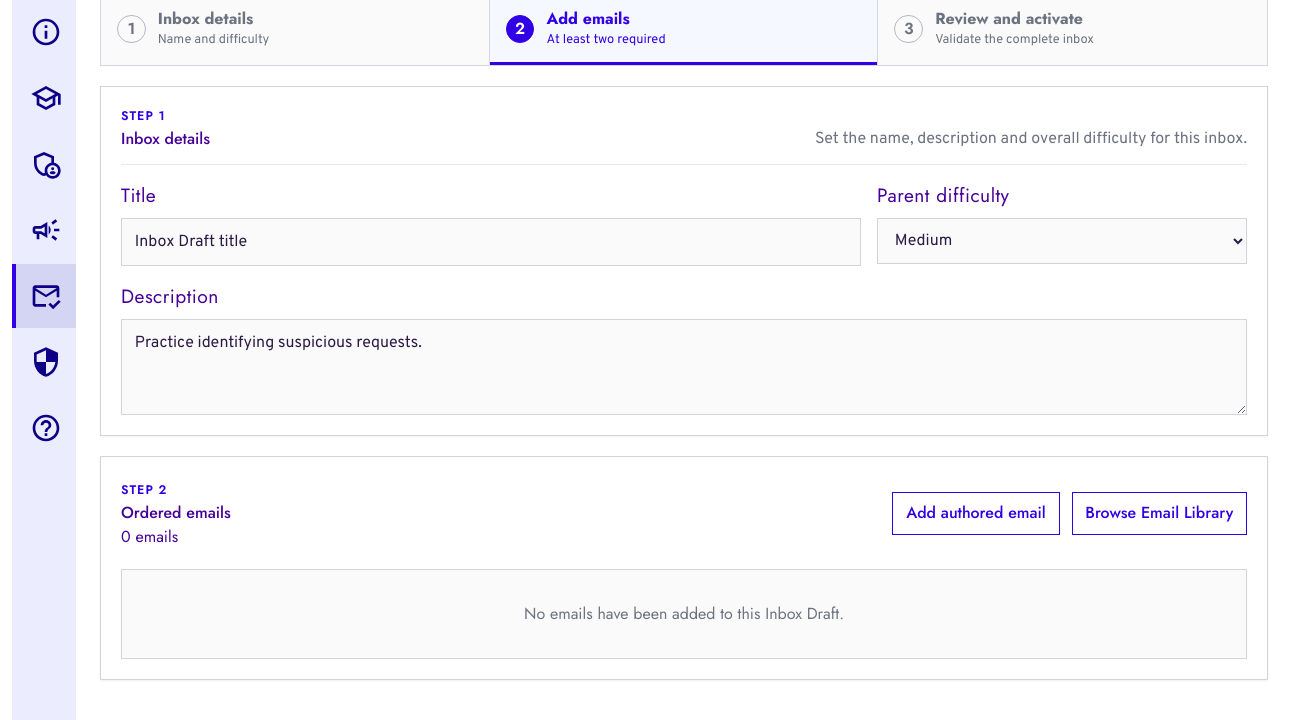
SimulatedInboxManagementPage › adds an Active library email as a snapshot and describes the source as traceability only
The image size is (1292, 720).
(page scrolled)
Click the button "Browse Email Library". click: (1159,513)
box: [1072,492,1247,535]
(page scrolled)
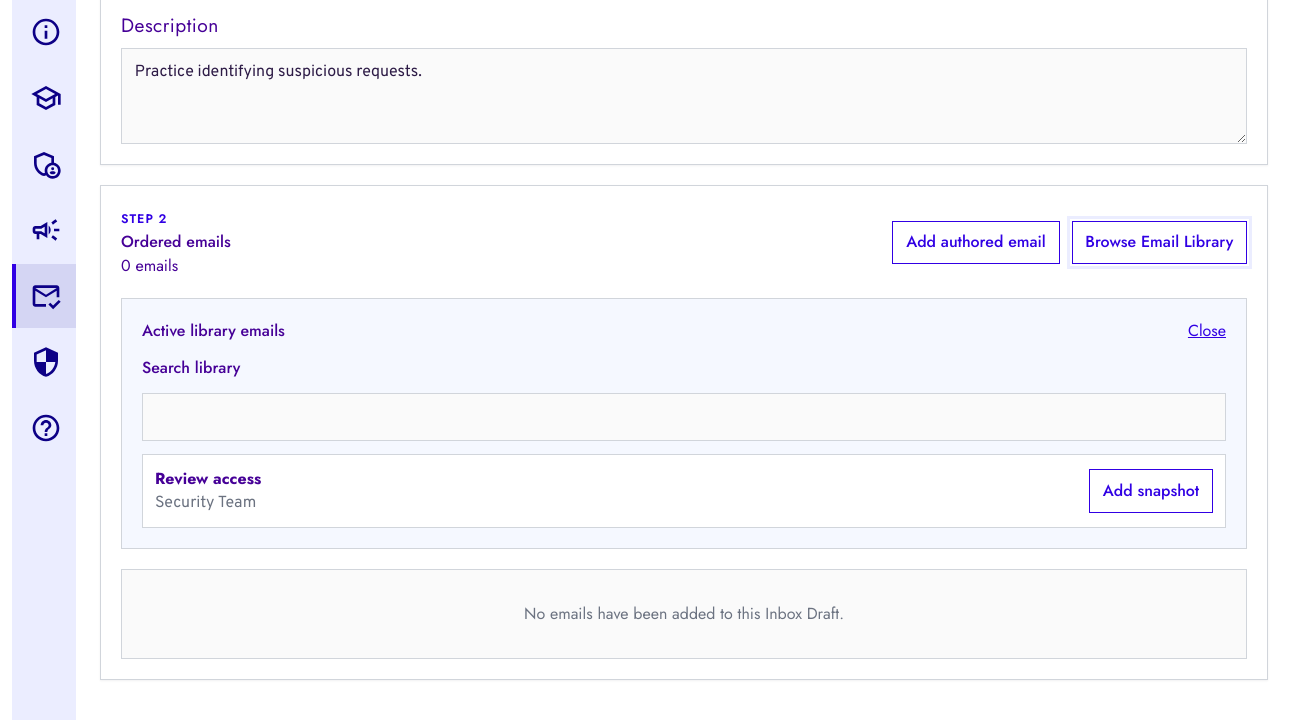
Click the button "Add snapshot". click: (1151,491)
box: [1089,469,1213,513]
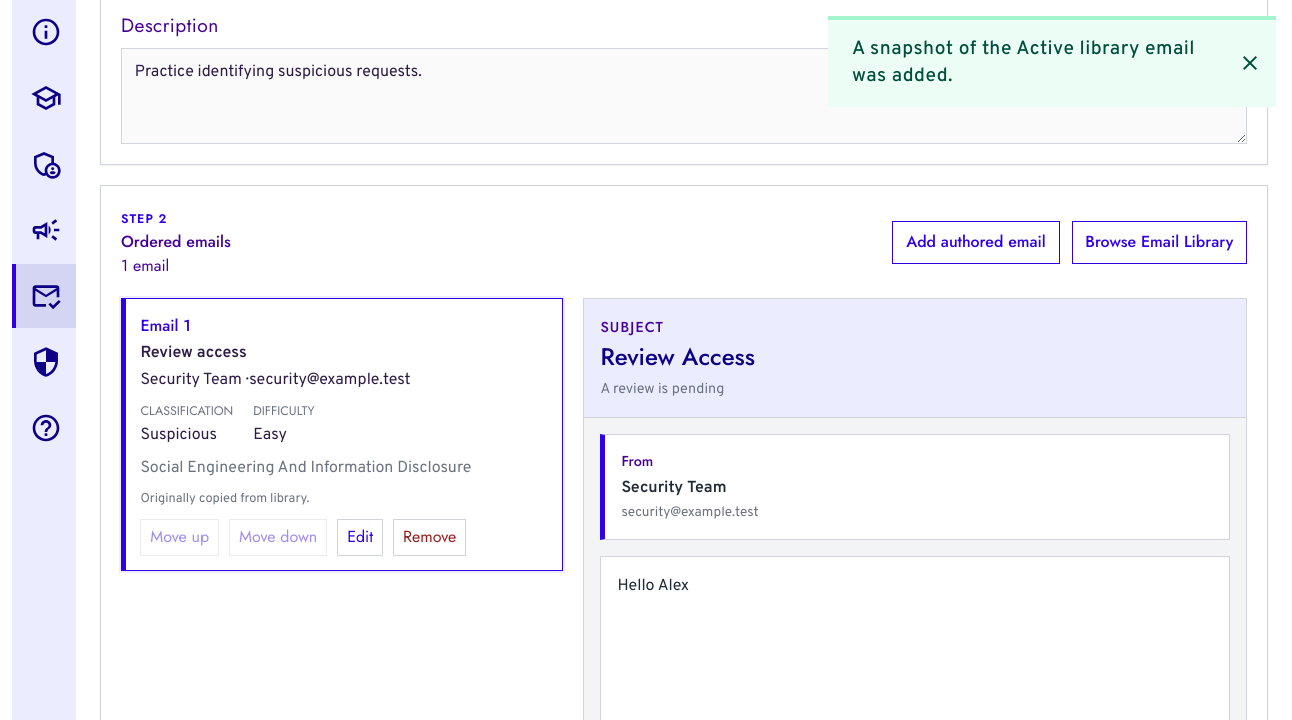
Expected: the text "A snapshot of the Active library email was added." is shown, [852,36,1234,91]
Expected: the text "Originally copied from library." is shown, [140,491,309,507]
